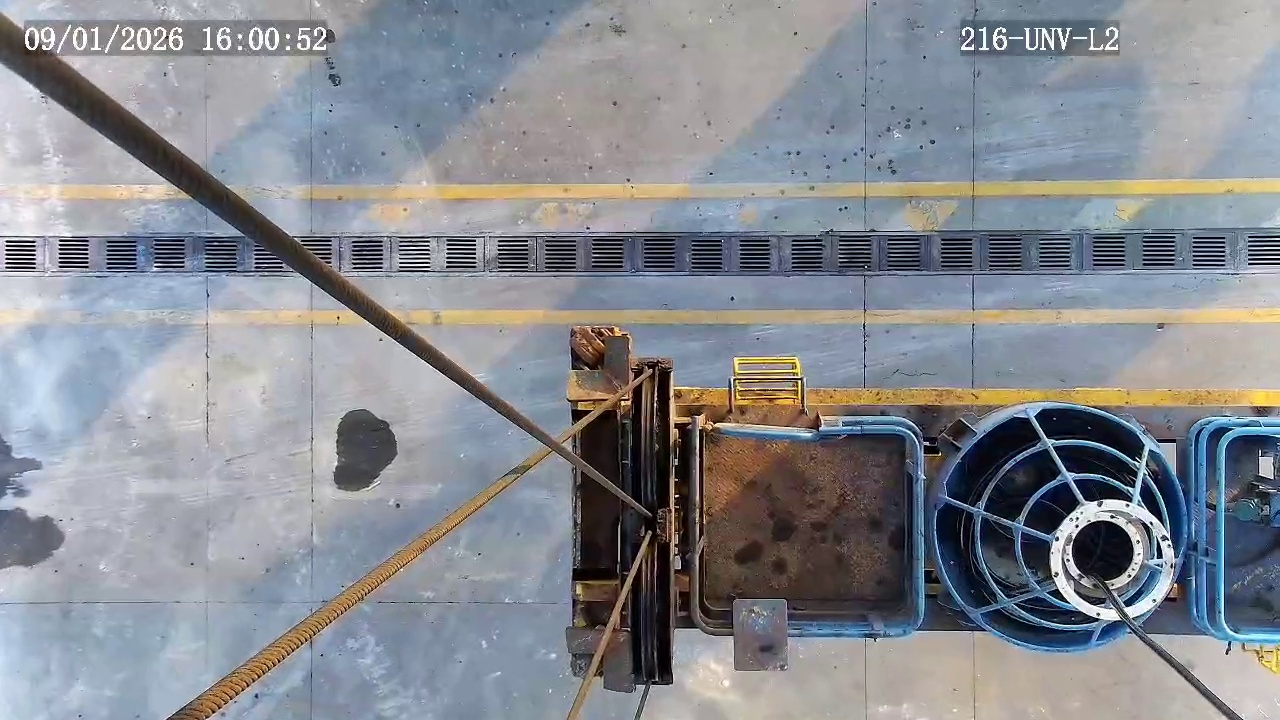left: (934, 405, 1186, 651)
